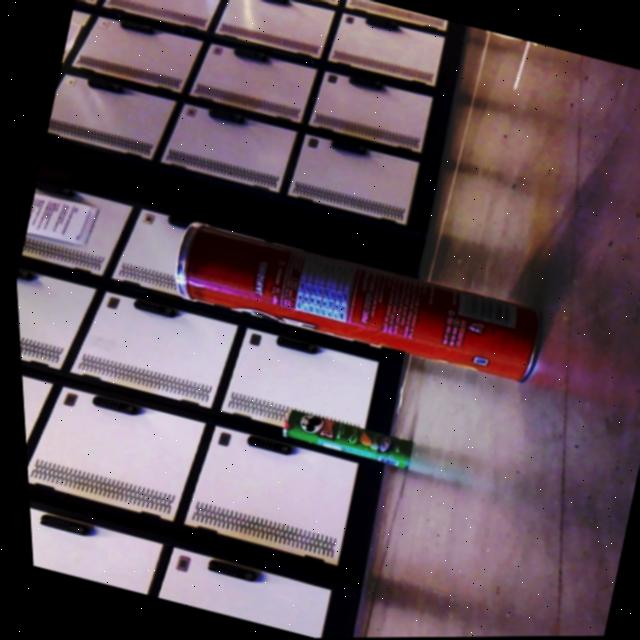greenpringles: (262, 391, 416, 477)
redpringles: (141, 184, 574, 417)
